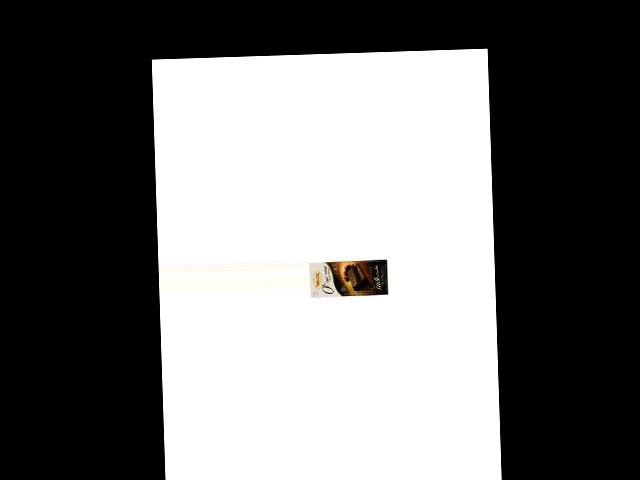chocolate: (309, 258, 388, 299)
